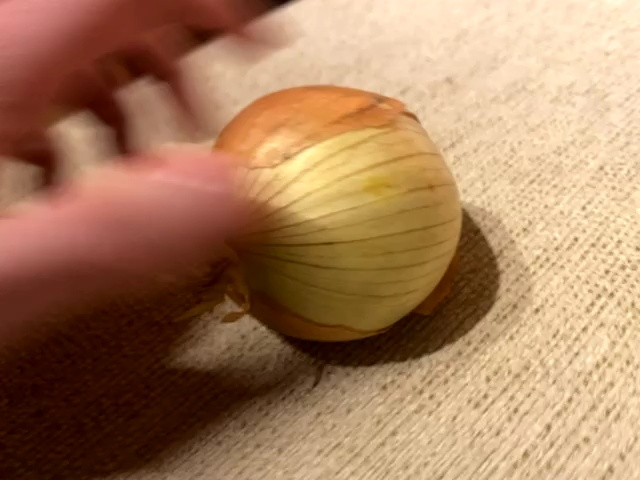onion: (205, 85, 464, 347)
